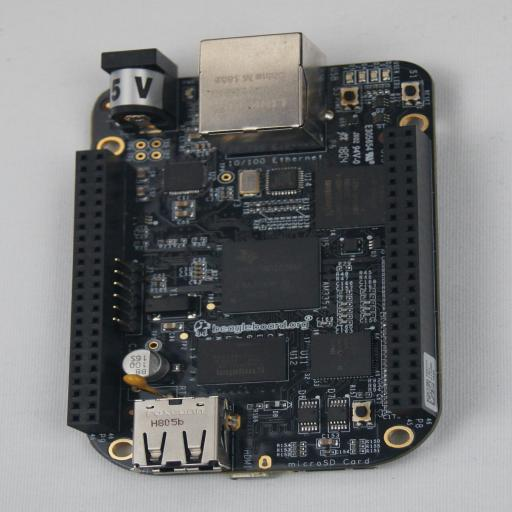Beaglebone Black: (67, 48, 442, 480)
